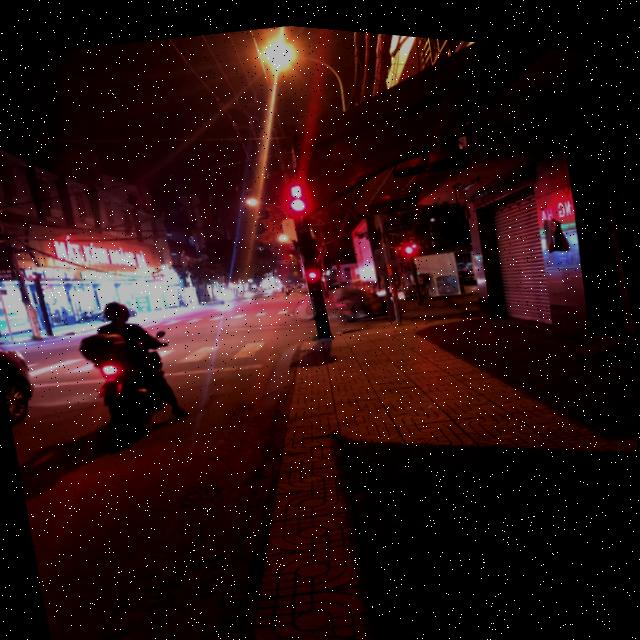Red: (287, 191, 317, 242), (304, 260, 328, 296)
